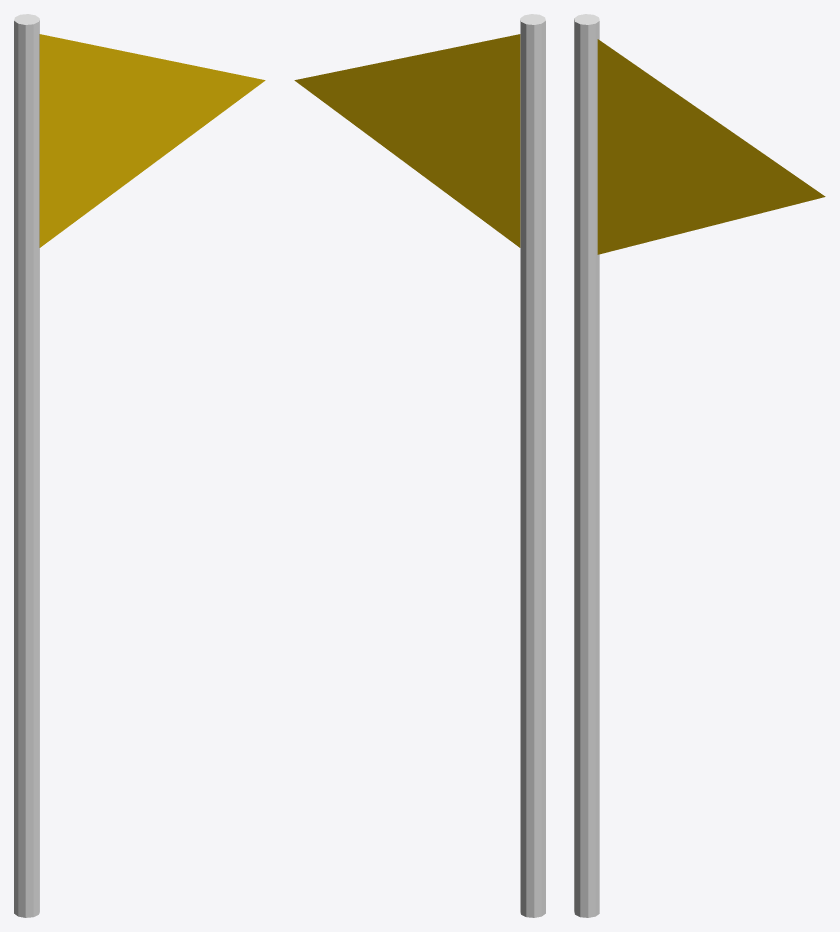
File: bayrak.glb
3 renders of one model, left to right at view 1: azimuth 30°, elevation 25°; view 2: azimuth 150°, elevation 25°; view 3: azimuth 330°, elevation 25°, orthographic.
Parts seen in each view (by area): view 1: KoseBayragi; view 2: KoseBayragi; view 3: KoseBayragi.
Part boxes in pixels (left/top/right/bottom): KoseBayragi: left=14, top=14, right=265, bottom=917; KoseBayragi: left=294, top=14, right=545, bottom=917; KoseBayragi: left=574, top=14, right=825, bottom=917.
Size of the model in its own units: 0.439 by 1.5 by 0.04.
